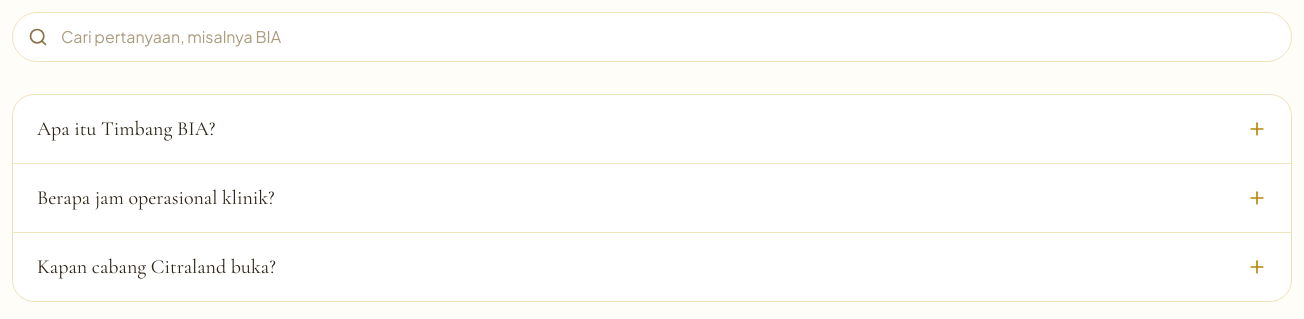
Test case: FaqList › memberi tahu bila tidak ada pertanyaan yang cocok
In the search field labelled "Cari pertanyaan": (652, 37) [12, 12, 1292, 62], type "zzz"
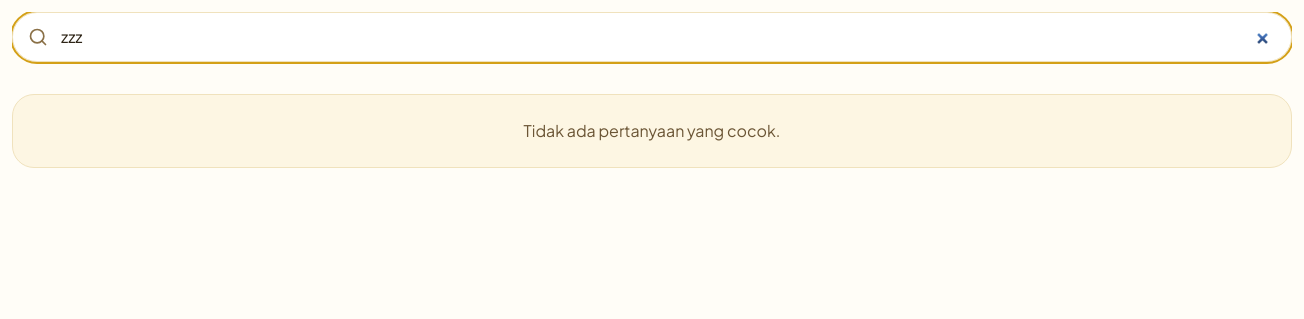
Check: the message reads "Tidak ada pertanyaan yang cocok.", box [524, 120, 780, 141]
Check: no buttons are shown
